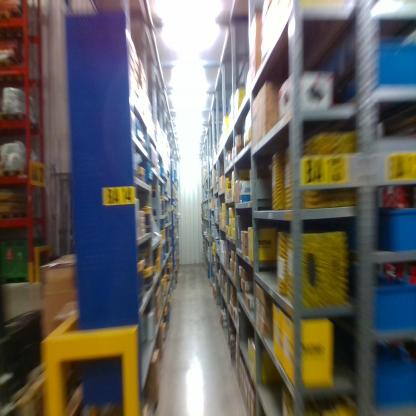pallet: (11, 355, 62, 416), (2, 110, 41, 135), (3, 3, 29, 39), (0, 52, 28, 85), (1, 204, 33, 230), (1, 165, 28, 182)
